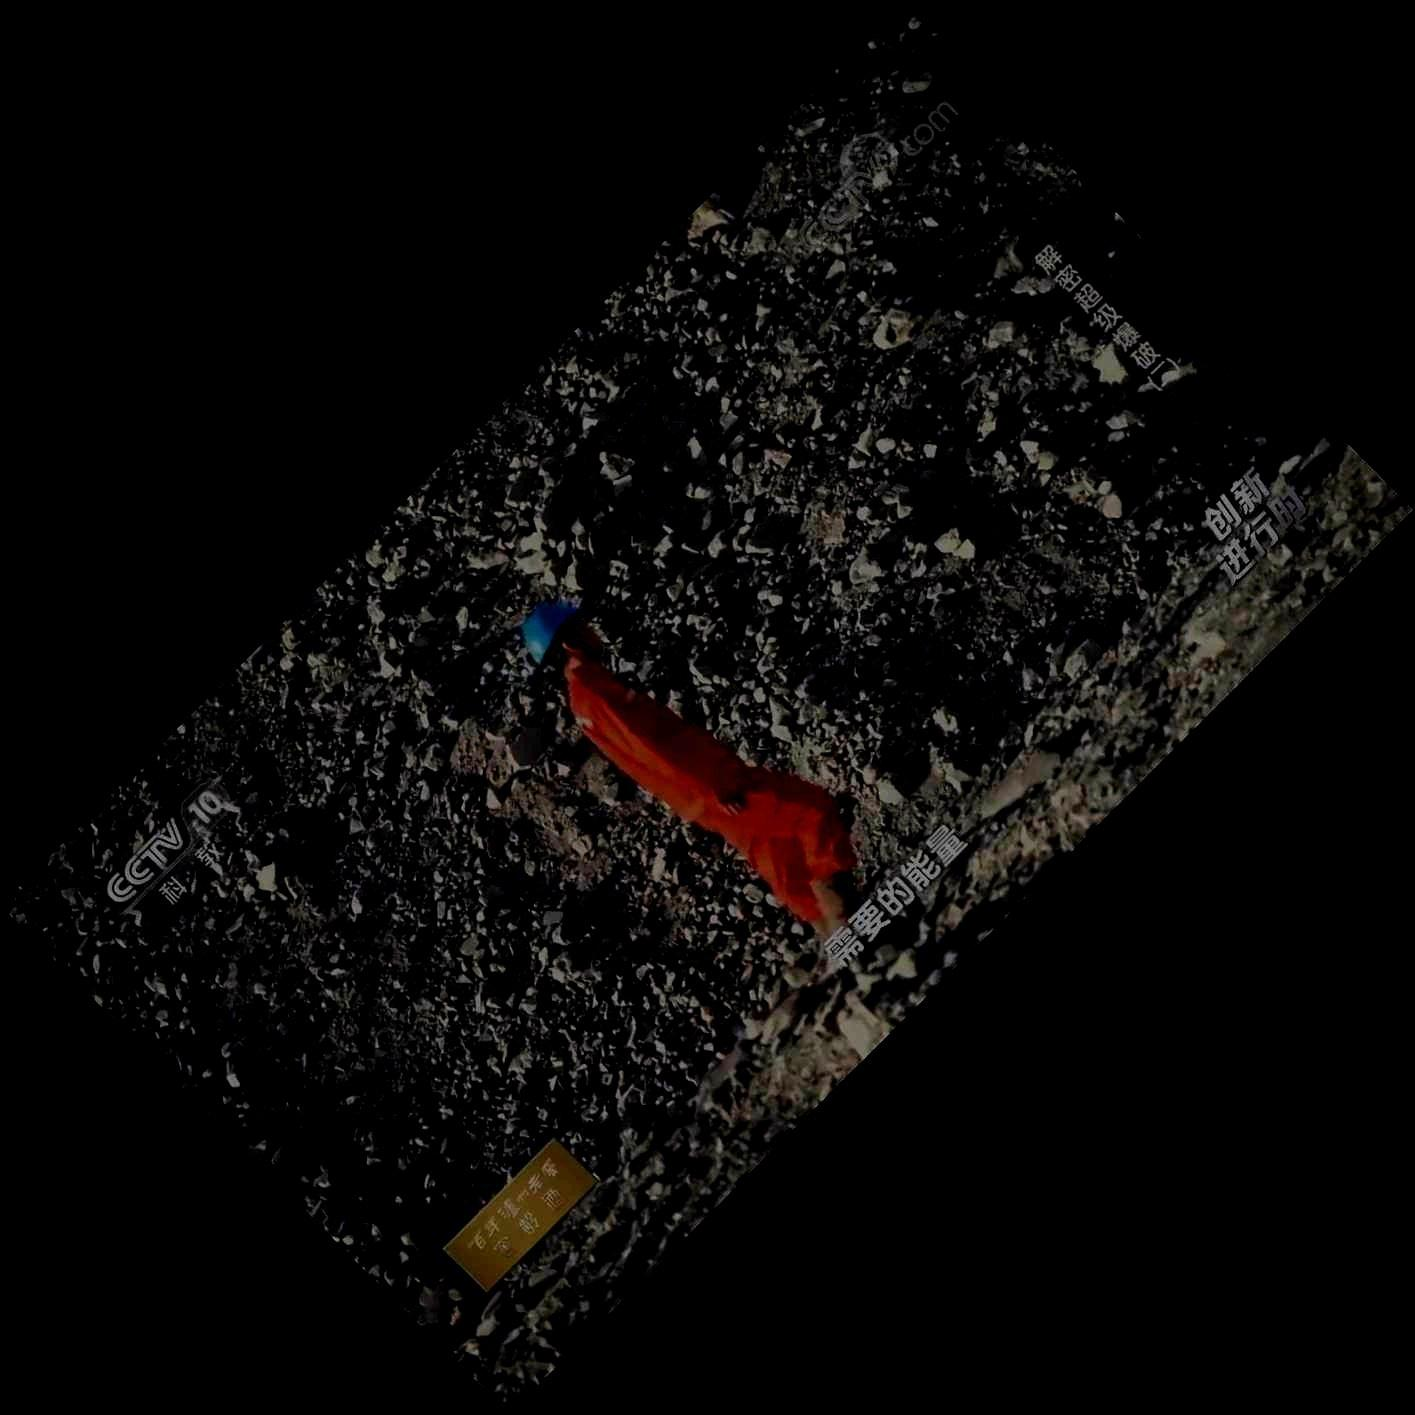helmet: (520, 597, 604, 671)
